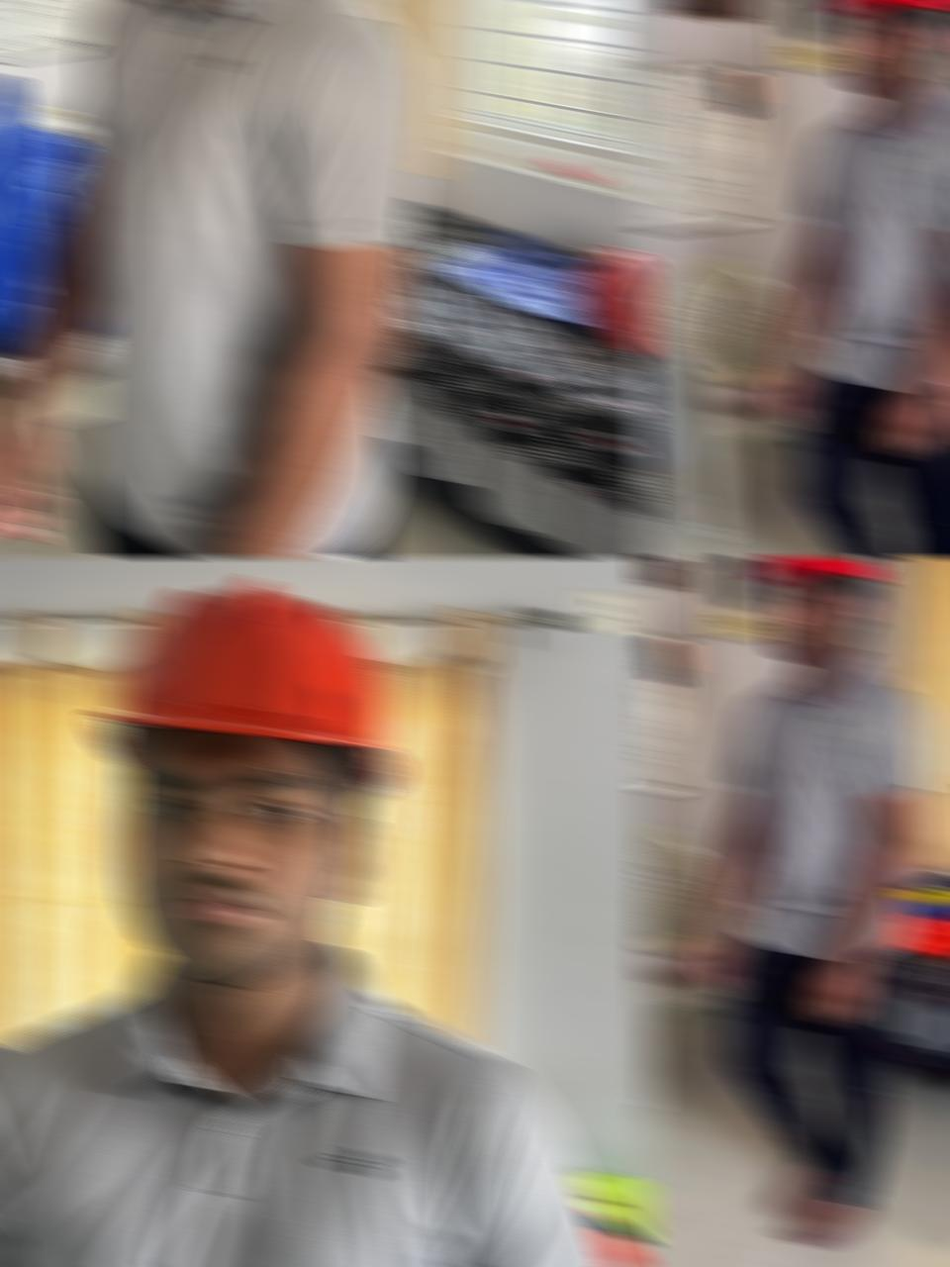Helmet: (88, 578, 402, 797), (573, 246, 653, 360), (743, 556, 890, 586), (815, 0, 950, 18)
No_Vest: (0, 945, 646, 1267), (69, 0, 428, 558), (726, 646, 934, 961), (799, 78, 950, 393)
Person: (0, 576, 646, 1267), (0, 0, 428, 558), (692, 556, 934, 1248), (764, 0, 950, 558)
